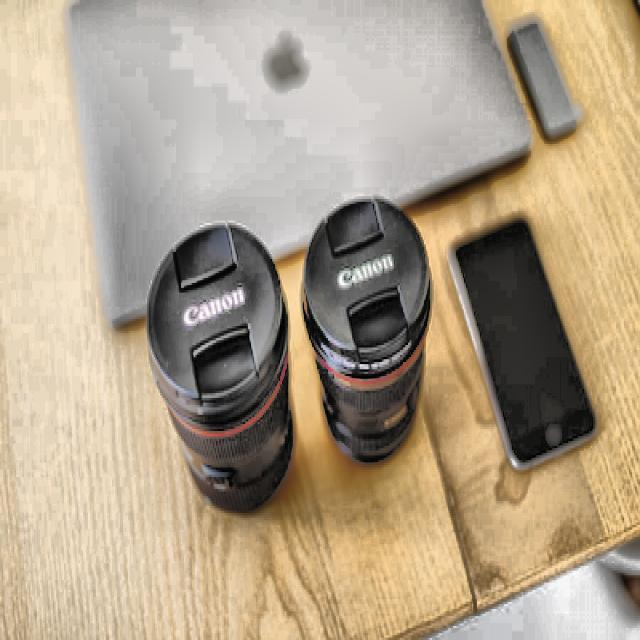Phone: (447, 212, 597, 475)
